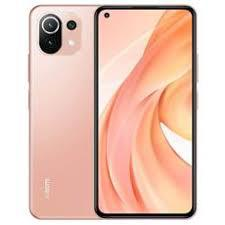Smartphone: (97, 11, 198, 213), (32, 10, 106, 221)
